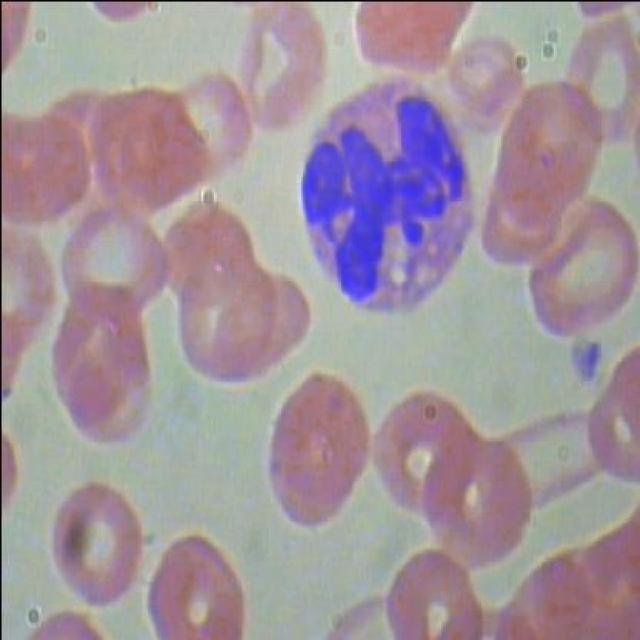RBC: (250, 372, 378, 534), (509, 189, 638, 343), (419, 436, 538, 578), (168, 245, 286, 387), (52, 198, 170, 339), (37, 474, 151, 609), (230, 1, 327, 134), (143, 523, 254, 639), (556, 21, 638, 156), (343, 0, 480, 78), (379, 548, 486, 638)
WBC: (280, 65, 489, 324)
